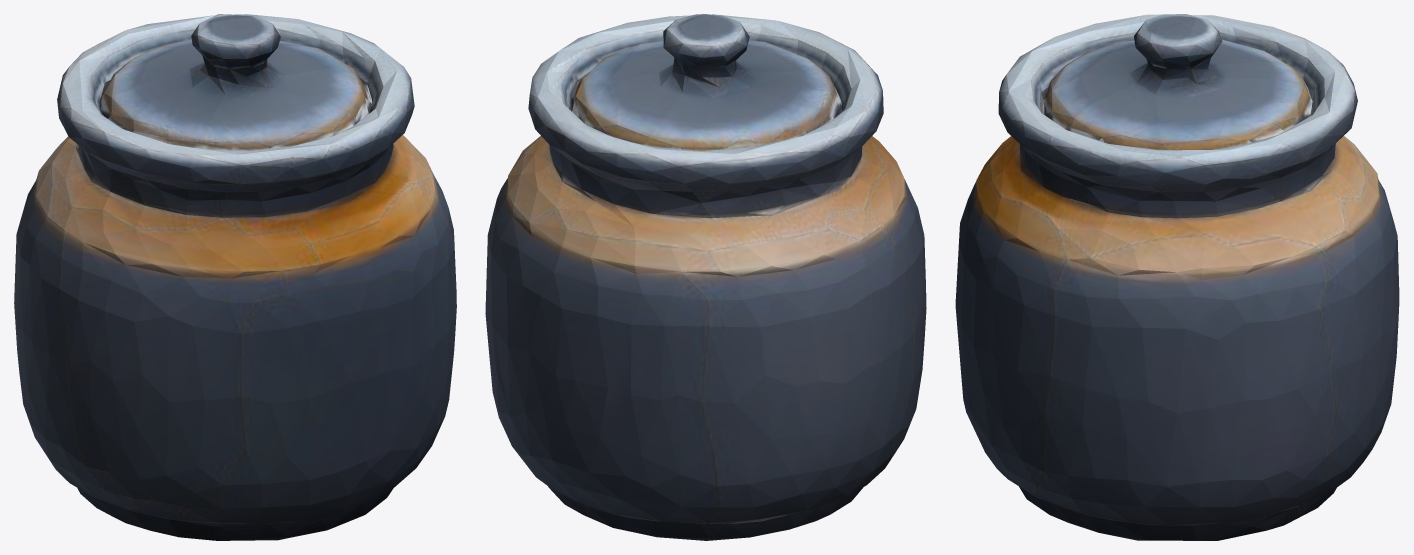
File: urn_shore.glb
The picture shows the model from 3 angles, left to right: view 1: azimuth 30°, elevation 25°; view 2: azimuth 150°, elevation 25°; view 3: azimuth 270°, elevation 25°; orthographic projection.
Parts seen in each view (by area): view 1: tripo_node_c457b402-7817-4ac9-98cd-713386ede530.001; view 2: tripo_node_c457b402-7817-4ac9-98cd-713386ede530.001; view 3: tripo_node_c457b402-7817-4ac9-98cd-713386ede530.001.
Part boxes in pixels (box(x1,y1,x2,y2)): tripo_node_c457b402-7817-4ac9-98cd-713386ede530.001: box(14, 14, 456, 540); tripo_node_c457b402-7817-4ac9-98cd-713386ede530.001: box(485, 14, 926, 540); tripo_node_c457b402-7817-4ac9-98cd-713386ede530.001: box(955, 14, 1399, 540).
Bounding box in the file's own units: 0.8887 × 0.9996 × 0.8903.
Materials: 1 (1 with a texture image).
